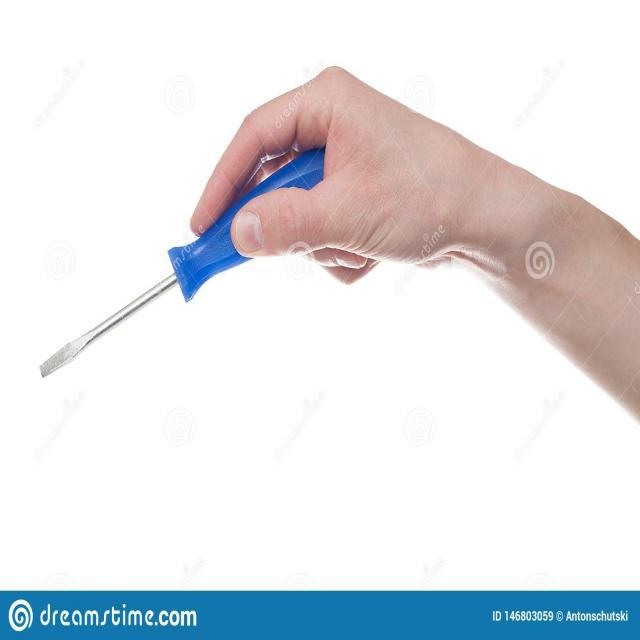screwdriver: (35, 137, 334, 386)
